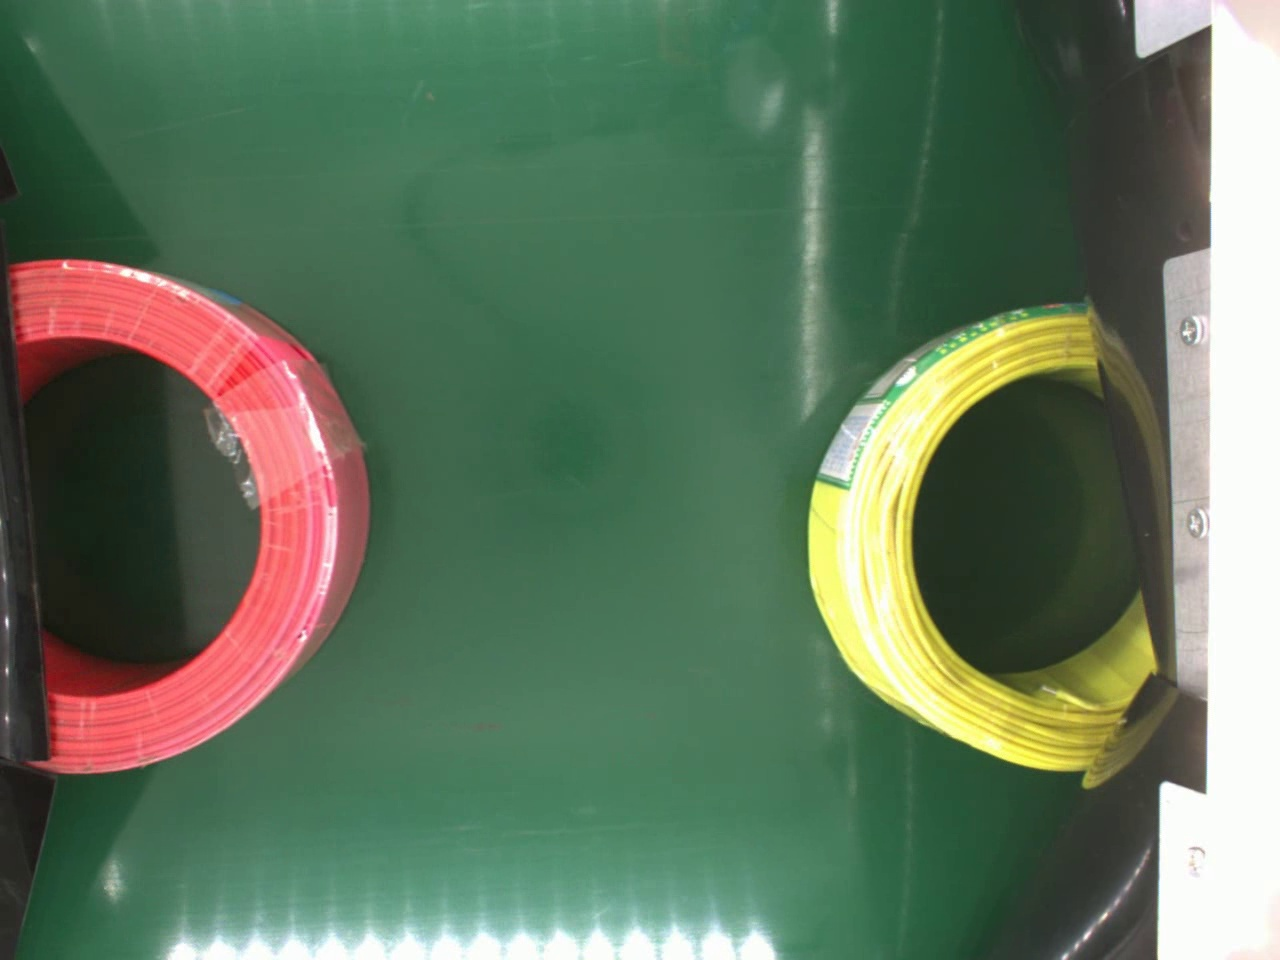red: (10, 259, 367, 787)
yellow: (800, 289, 1162, 772)
